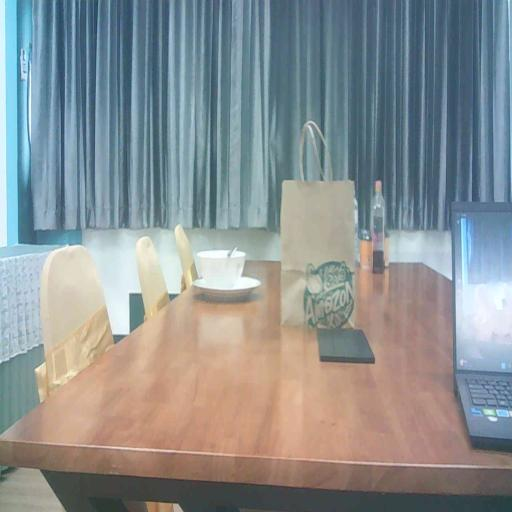bag: (280, 171, 360, 336)
